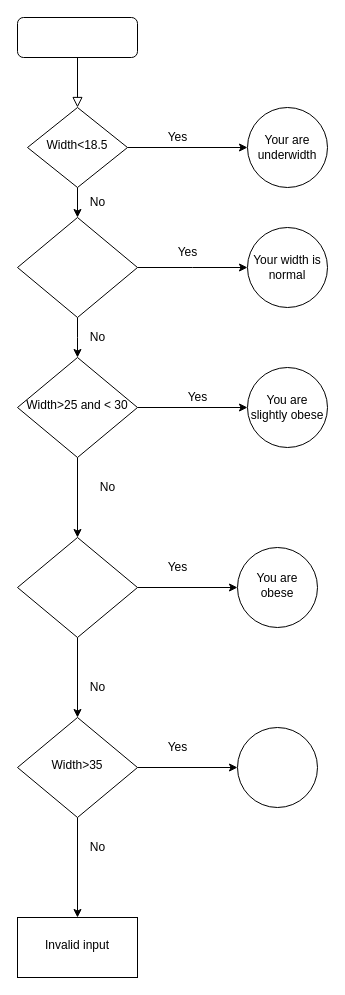
The diagram is 345 pixels wide and 995 high, and some of its shapes have lost their labels. Each missing label, with the centre of its shape:
BMI: the point at 77,37
Width>18.5 and <25: the point at 77,267
Width>30 and < 35: the point at 77,587
You are severely obese: the point at 277,767
